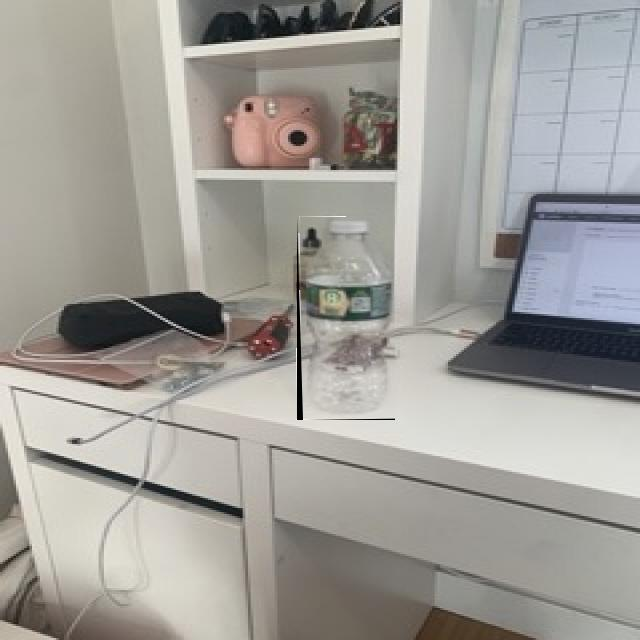water_bottle: (297, 217, 395, 420)
